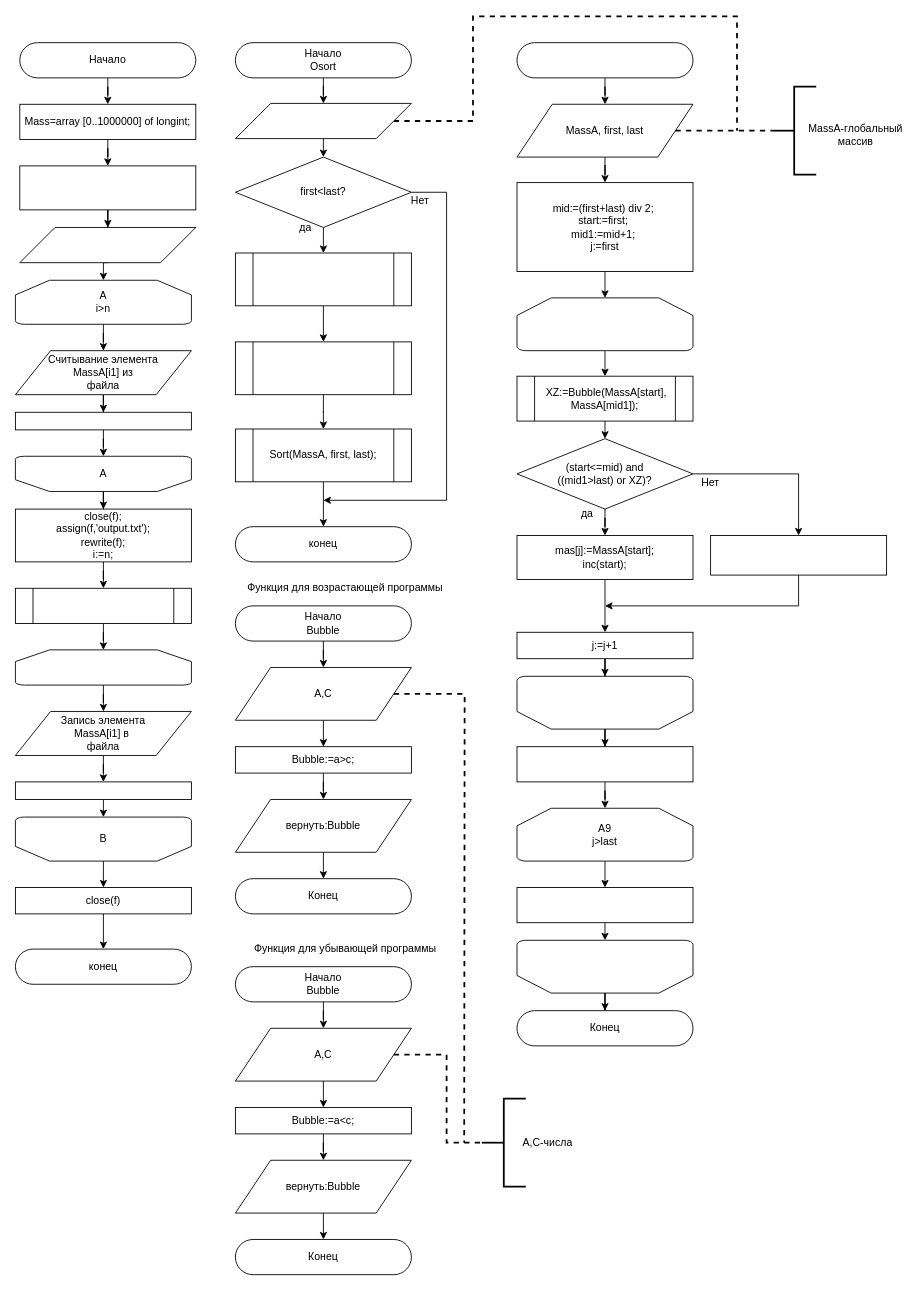
This 920x1290 diagram has some shape labels left out. Each missing label, with the centre of its shape:
"A8" belongs at (604,702).
"A8 j>last" belongs at (604,324).
"A9" belongs at (604,966).
"assign(F,'input.txt'); reset(F); i:=1" belongs at (107,187).
"B i<0" belongs at (103,667).
"i:=i+1" belongs at (103,420).
"i:=i-1" belongs at (103,790).
"j:=first" belongs at (604,764).
"mas[j]:=MassA[mid1]; inc(mid1);" belongs at (798,555).
"MassA,First,Last" belongs at (323,121).
"MassA[j]:=mas[j]; j:=j+1;" belongs at (604,905).
"OSort(MassA, (first+last) div 2+1, last);" belongs at (323,368).
"OSort(MassA, first, (first+last) div 2);" belongs at (323,279).
"Osort(MassA,1,N);" belongs at (103,605).
"Начало sort" belongs at (604,60).
"Считывание n из файла" belongs at (107,245).
